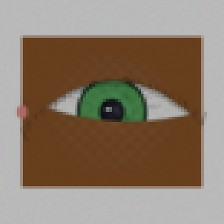pterygium_lesion: (23, 97, 62, 127)
